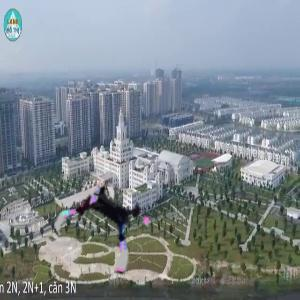drone: (53, 176, 152, 275)
